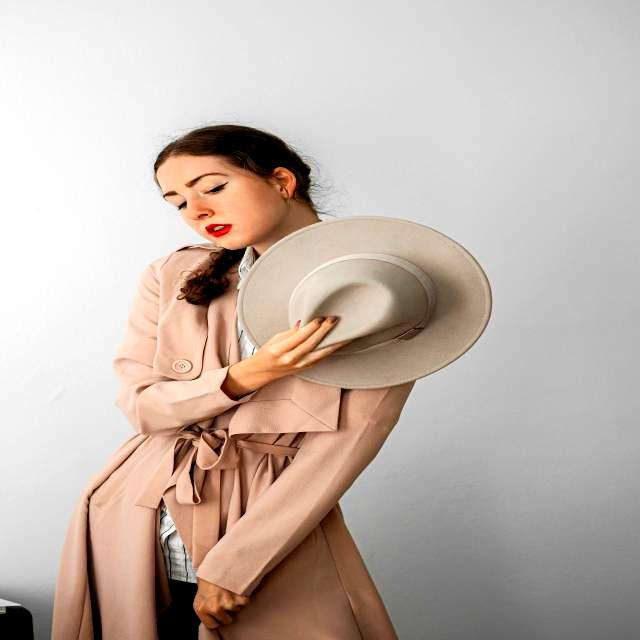no_head_wear: (154, 125, 314, 204)
person: (52, 125, 490, 640)
